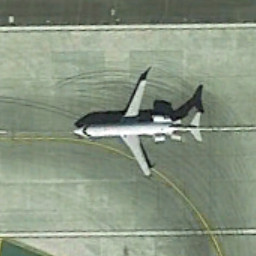Airplane: (50, 61, 216, 193)
